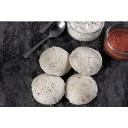idly: (64, 74, 98, 105), (30, 74, 64, 105), (68, 46, 102, 75), (40, 47, 70, 75)
